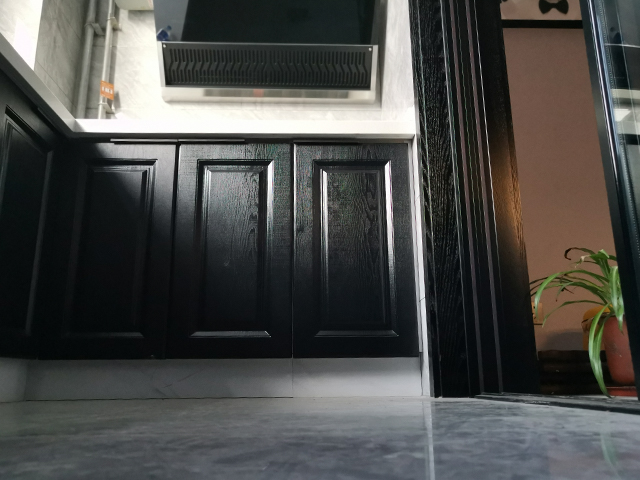cabinet: (50, 131, 428, 397)
